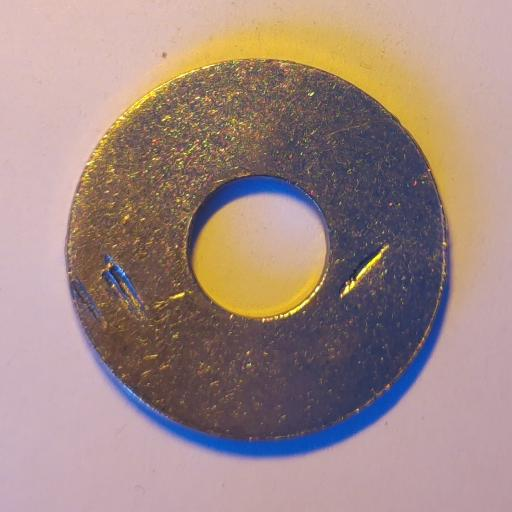scratch: (339, 243, 389, 301), (101, 255, 145, 316), (72, 280, 101, 322)
